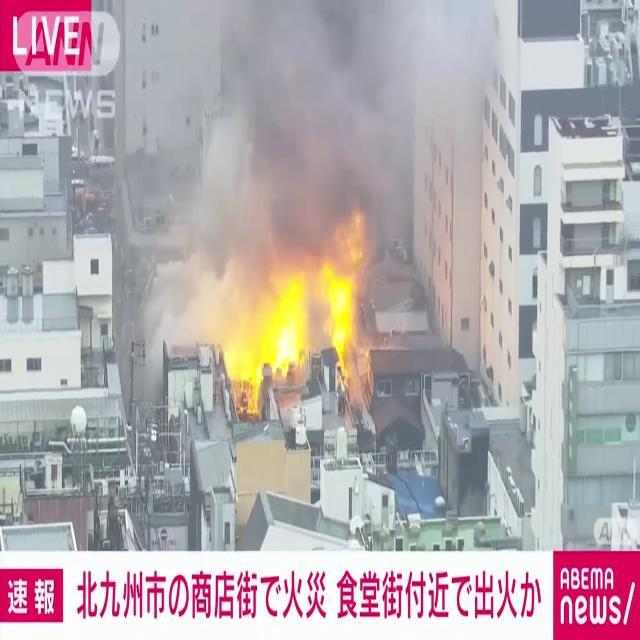Fire: (218, 215, 378, 411)
Smoke: (172, 0, 482, 254)
